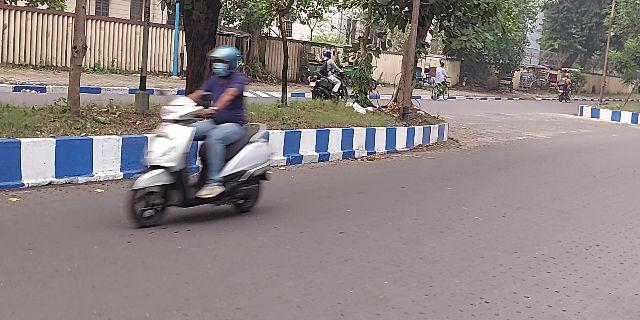Motorbike: (124, 38, 276, 230)
